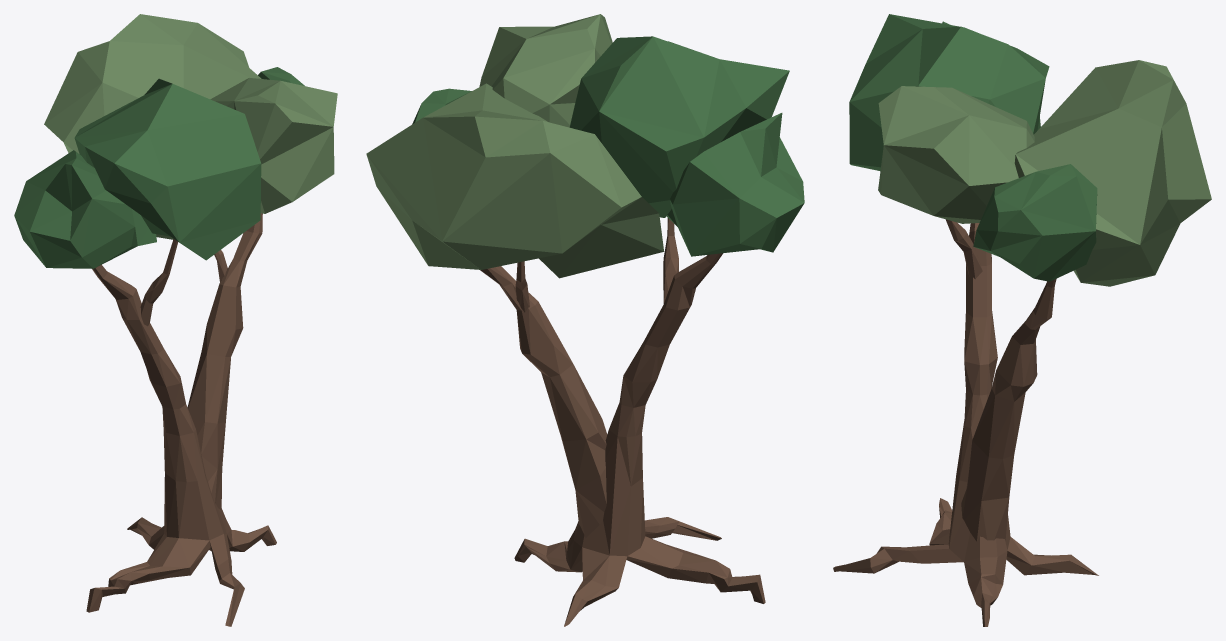
File: _tree_5.fbx
3 renders of one model, left to right at view 1: azimuth 30°, elevation 25°; view 2: azimuth 150°, elevation 25°; view 3: azimuth 270°, elevation 25°, orthographic. The views are drawn at different scales.
Parts seen in each view (by area): view 1: tree_5; view 2: tree_5; view 3: tree_5.
Part boxes in pixels (bbox=[...]): tree_5: bbox=[14, 14, 337, 626]; tree_5: bbox=[366, 14, 804, 626]; tree_5: bbox=[833, 14, 1211, 626].
Bounding box in the file's own units: 373 × 552 × 348.
